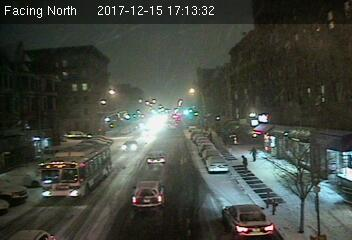bus: (39, 141, 112, 197)
car: (222, 204, 276, 240), (129, 179, 165, 209), (204, 156, 228, 172), (146, 151, 168, 164), (120, 141, 140, 153)
pedestrian: (238, 152, 248, 172), (249, 142, 258, 164)
